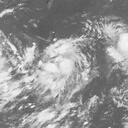cyclone: (28, 37, 95, 101), (112, 30, 127, 71)
